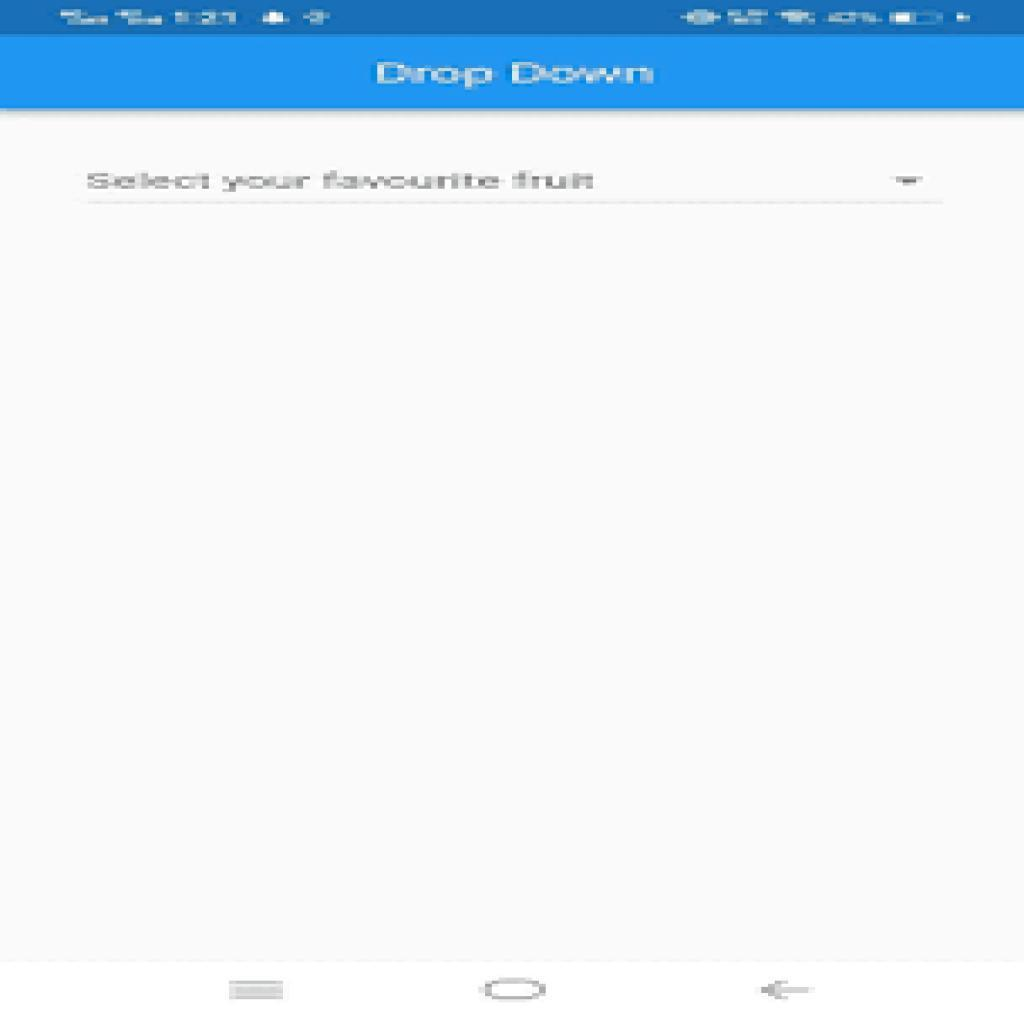dropdown: (77, 157, 963, 211)
